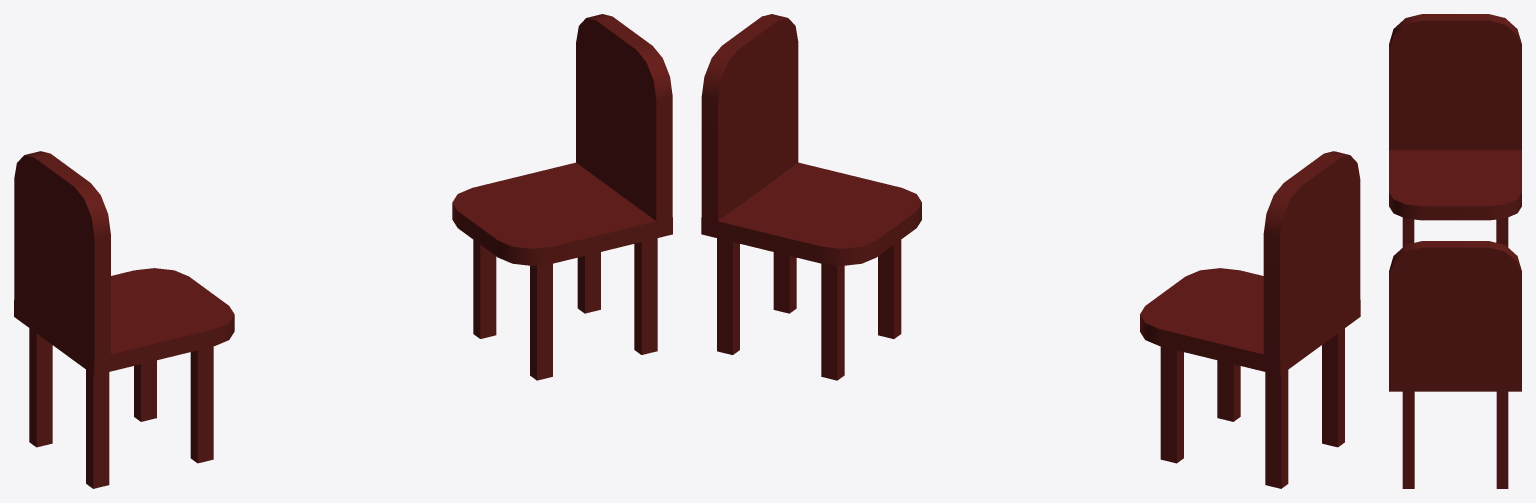
The model's file is level17.1.fbx.
The picture shows the model from 3 angles, left to right: view 1: azimuth 30°, elevation 25°; view 2: azimuth 150°, elevation 25°; view 3: azimuth 270°, elevation 25°; orthographic projection. The views are drawn at different scales.
Parts seen in each view (by area): view 1: chair4; view 2: chair4; view 3: chair4.
Part boxes in pixels (x1,y1,x2,y2): chair4: (14,14,672,488); chair4: (701,14,1360,488); chair4: (1389,14,1521,488).
Size of the model in its own units: 13.67 by 6.66 by 3.29.
